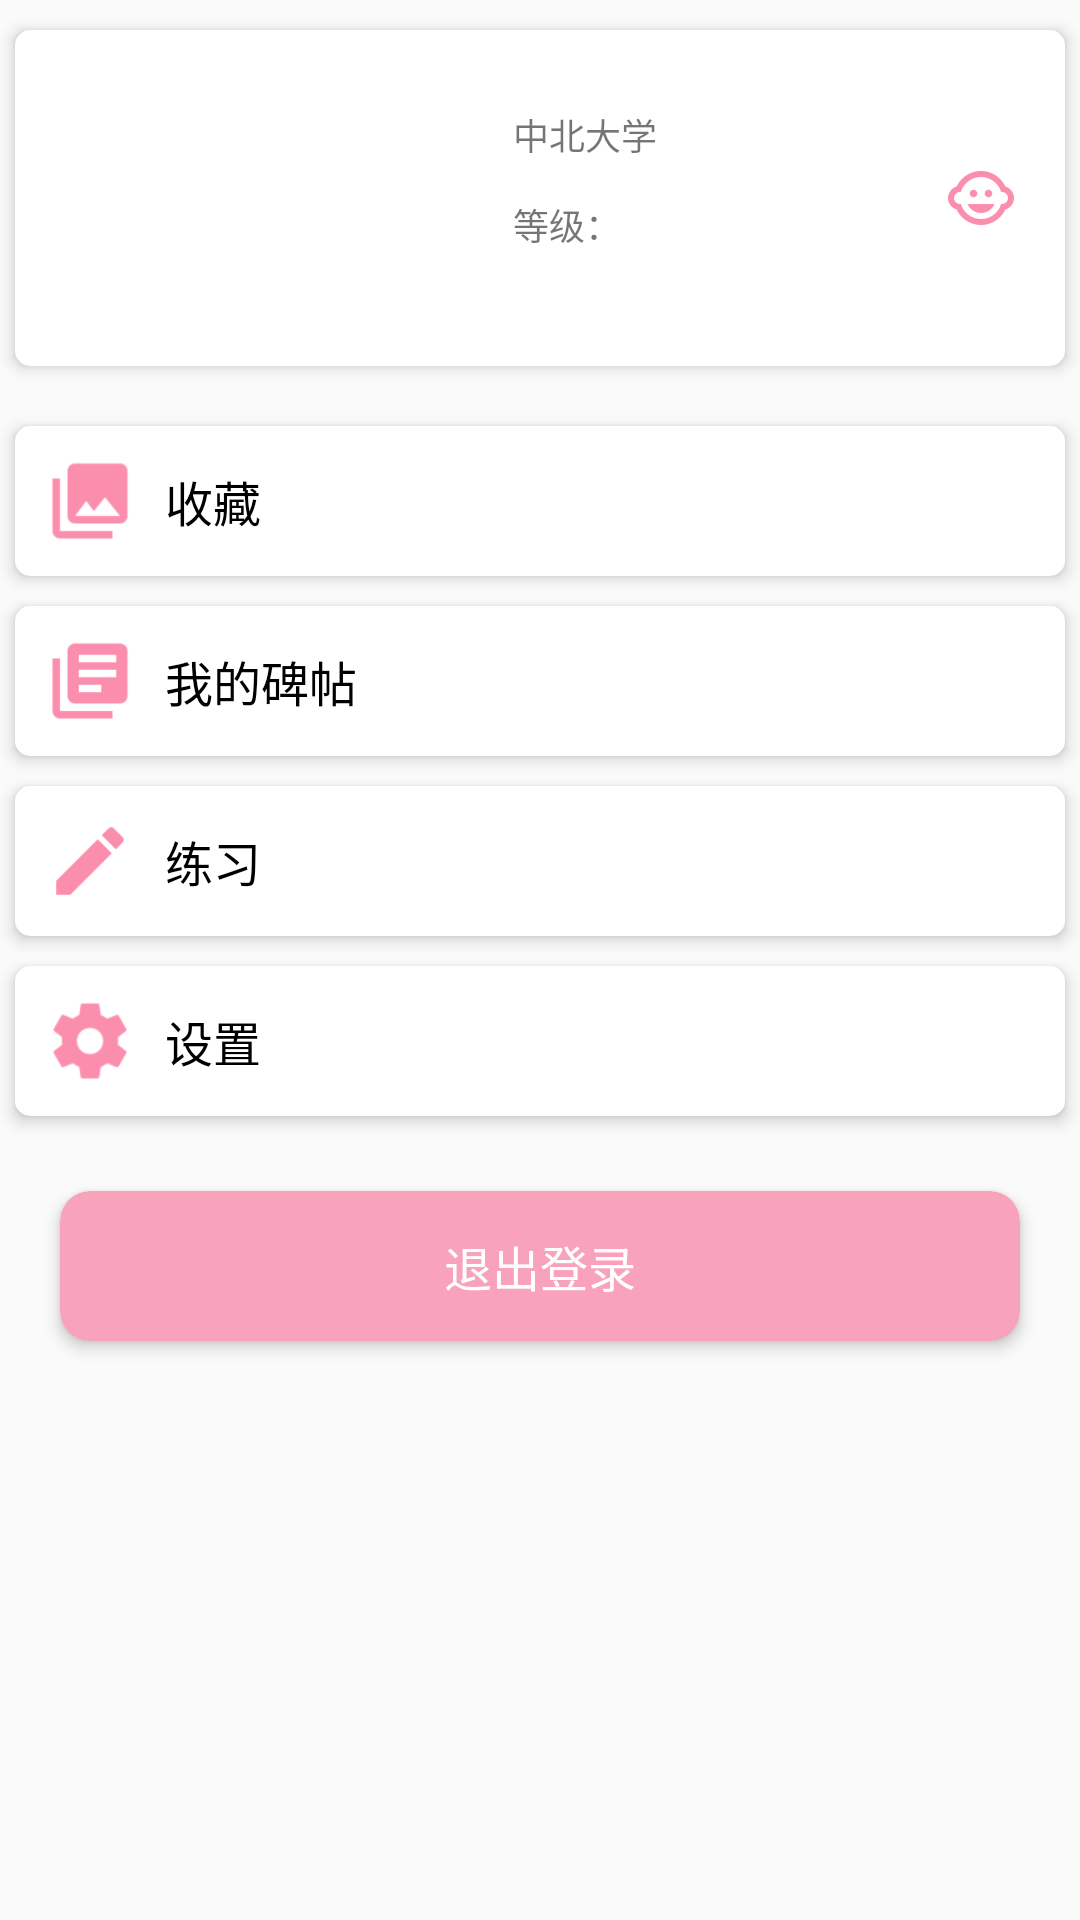

Icon bounding boxes for this 1080x1920 phone screenshot, format (x1=x1, y1=y1, x2=x2, y2=y2):
comui child: (x1=948, y1=171, x2=1014, y2=225)
comui collection: (x1=52, y1=463, x2=128, y2=539)
comui setting: (x1=53, y1=1003, x2=127, y2=1079)
comui tab copybook: (x1=52, y1=643, x2=128, y2=719)
comui tab genbook: (x1=56, y1=827, x2=124, y2=895)
